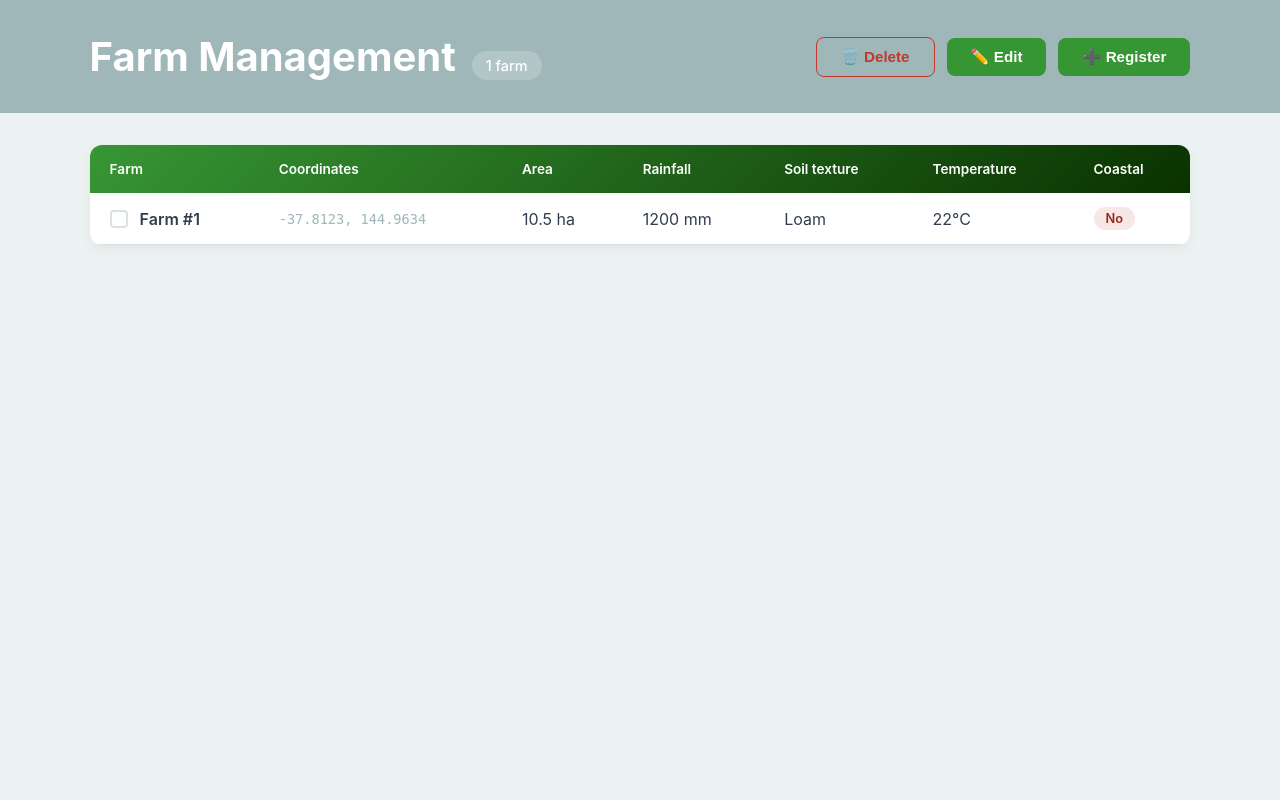
FarmsManagmentPage › opens the edit modal when a farm is selected and Edit is clicked
Click the checkbox.
click(119, 218)  # box [110,210,128,228]
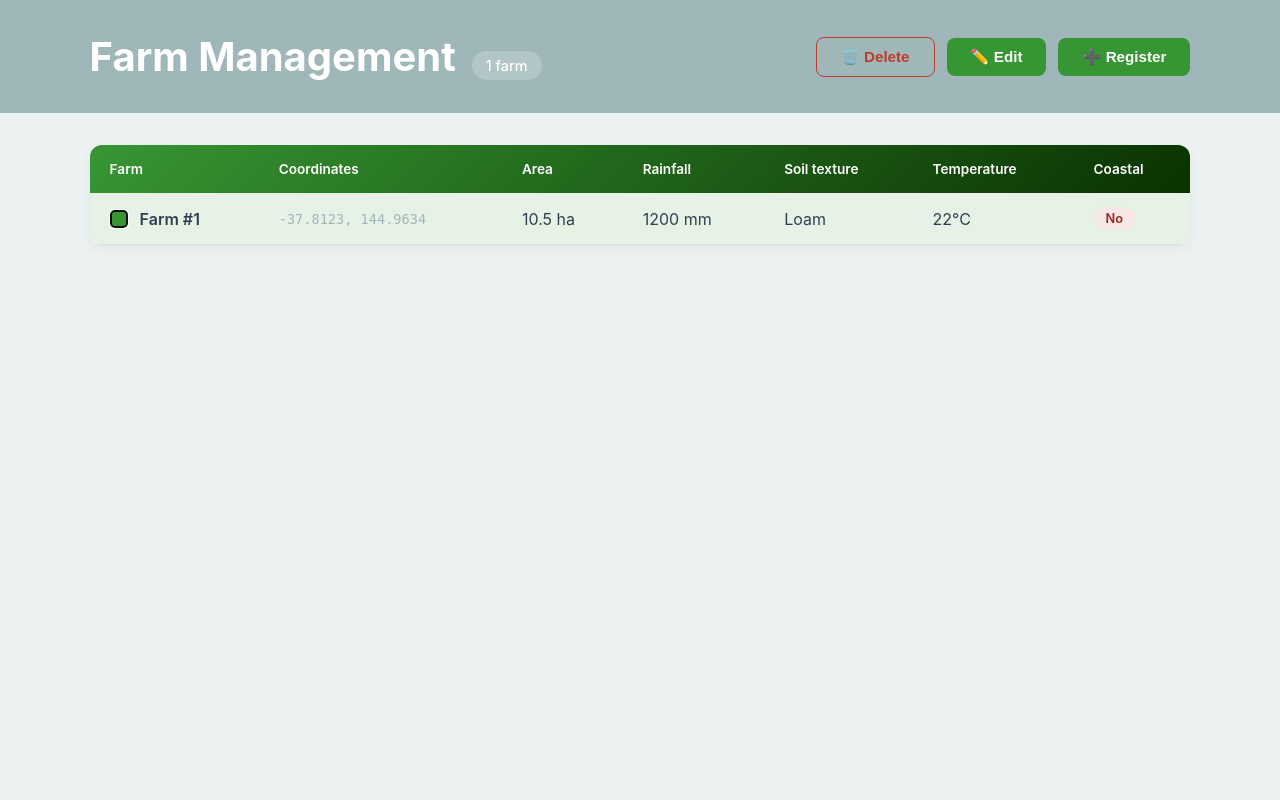
Click the button "✏️ Edit".
click(997, 56)  # box [947,38,1046,76]
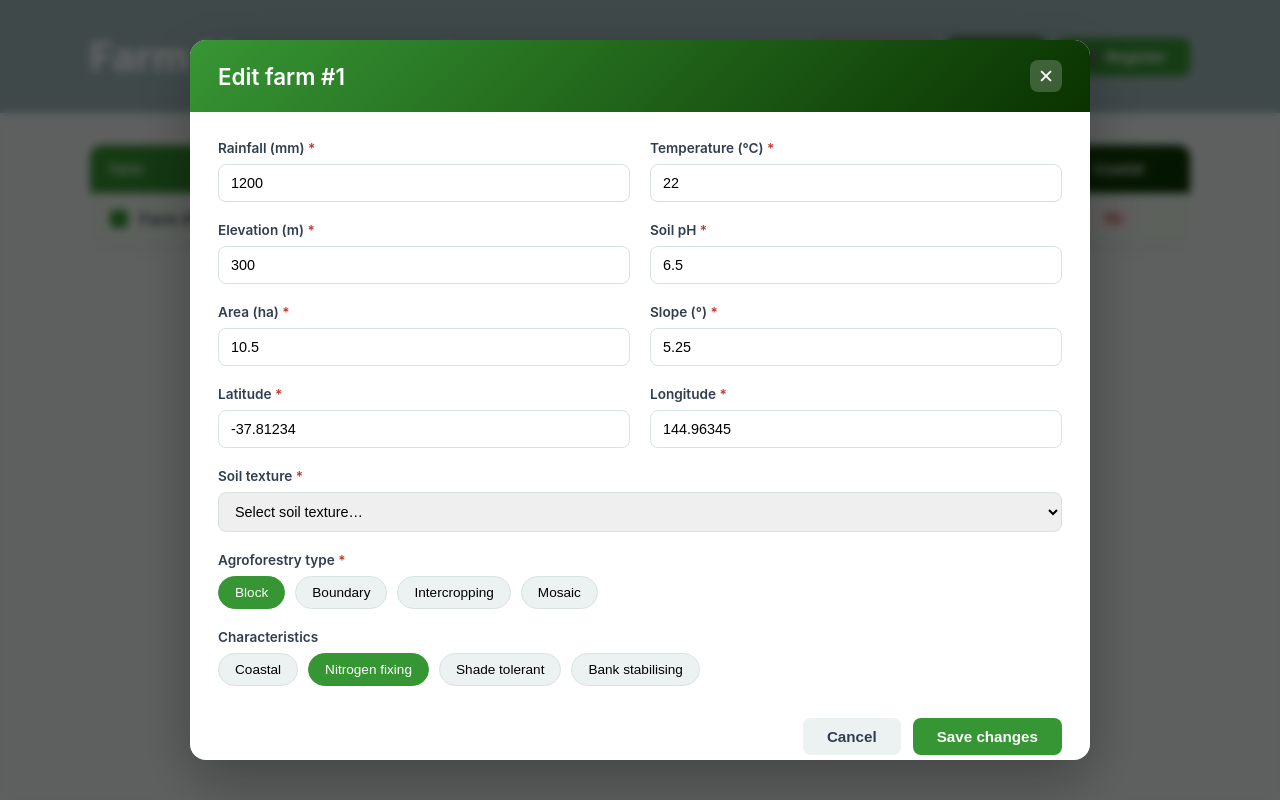
Expected: the heading "Edit farm #1" is shown, [218,62,345,90]
